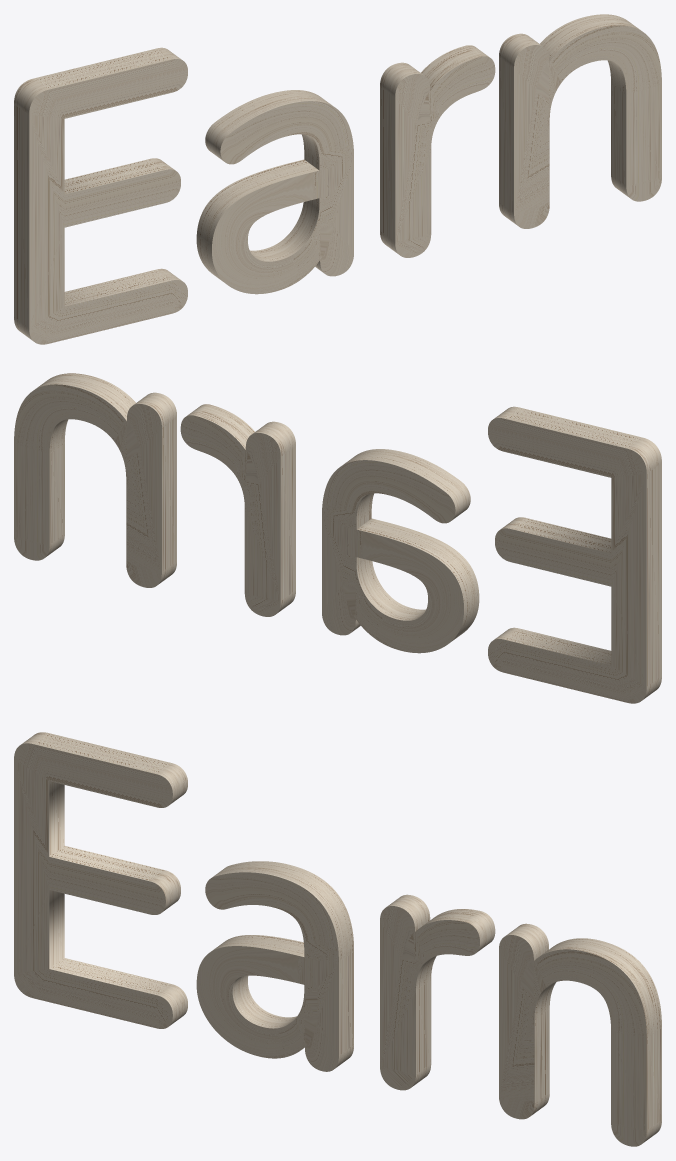
The model's file is name.glb.
The picture shows the model from 3 angles, top to bottom: view 1: azimuth 30°, elevation 25°; view 2: azimuth 150°, elevation 25°; view 3: azimuth 330°, elevation 25°; orthographic projection.
Parts seen in each view (by area): view 1: Text; view 2: Text; view 3: Text.
Boxes of the visible parts, x1,y1,x2,y2 form: Text: [14, 14, 661, 344]; Text: [14, 373, 661, 703]; Text: [14, 732, 661, 1146].
Bounding box in the file's own units: 9.24 × 3.59 × 0.3852.
1 material, 1 textured.
